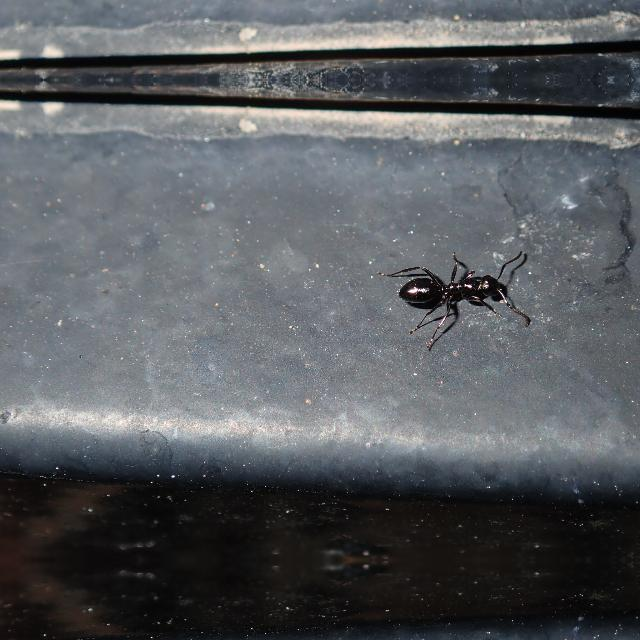Colobopsis: (391, 258, 521, 318)
